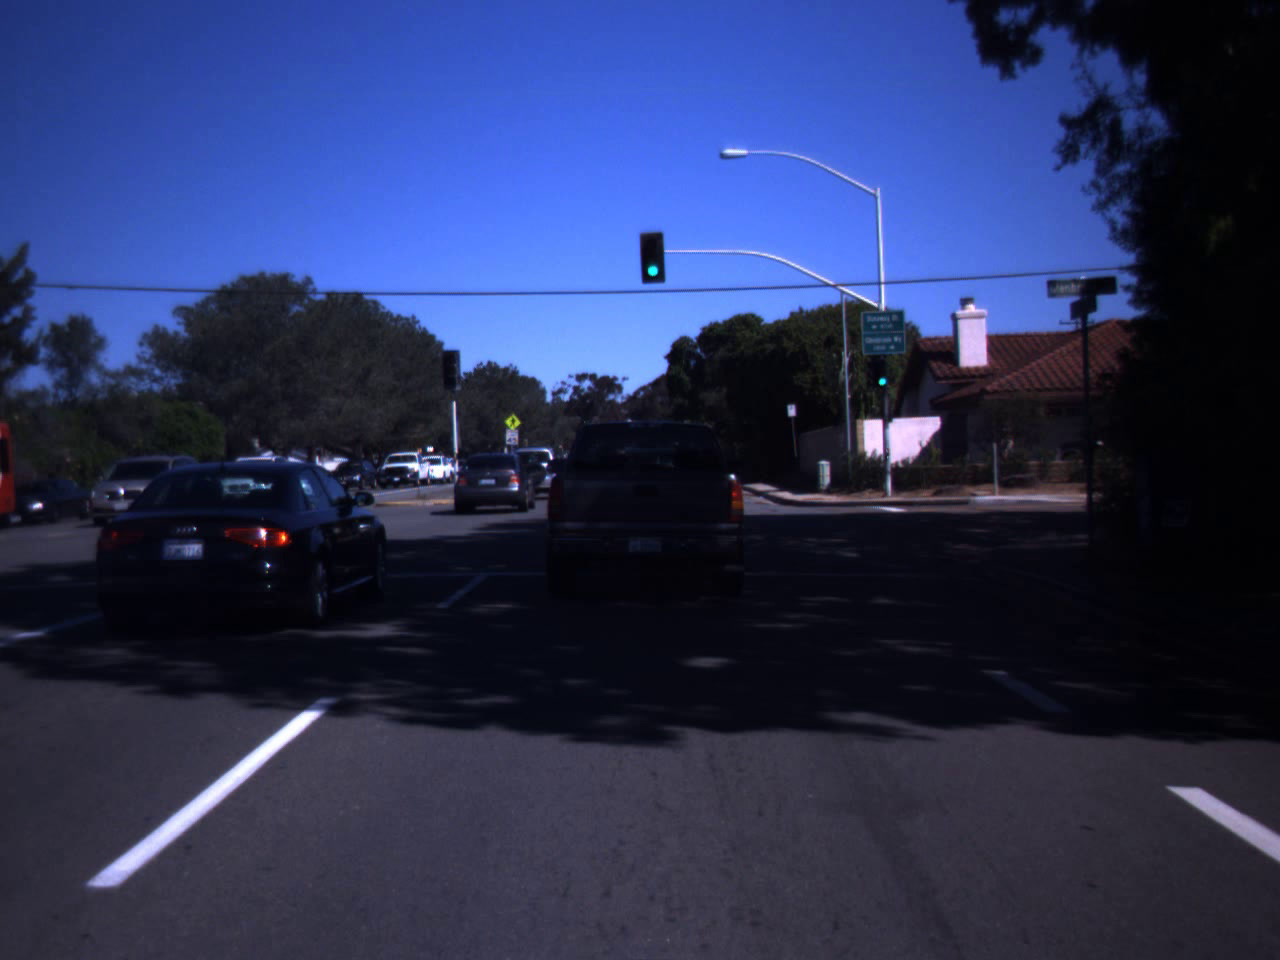go: (639, 237, 666, 282), (875, 361, 890, 386)
